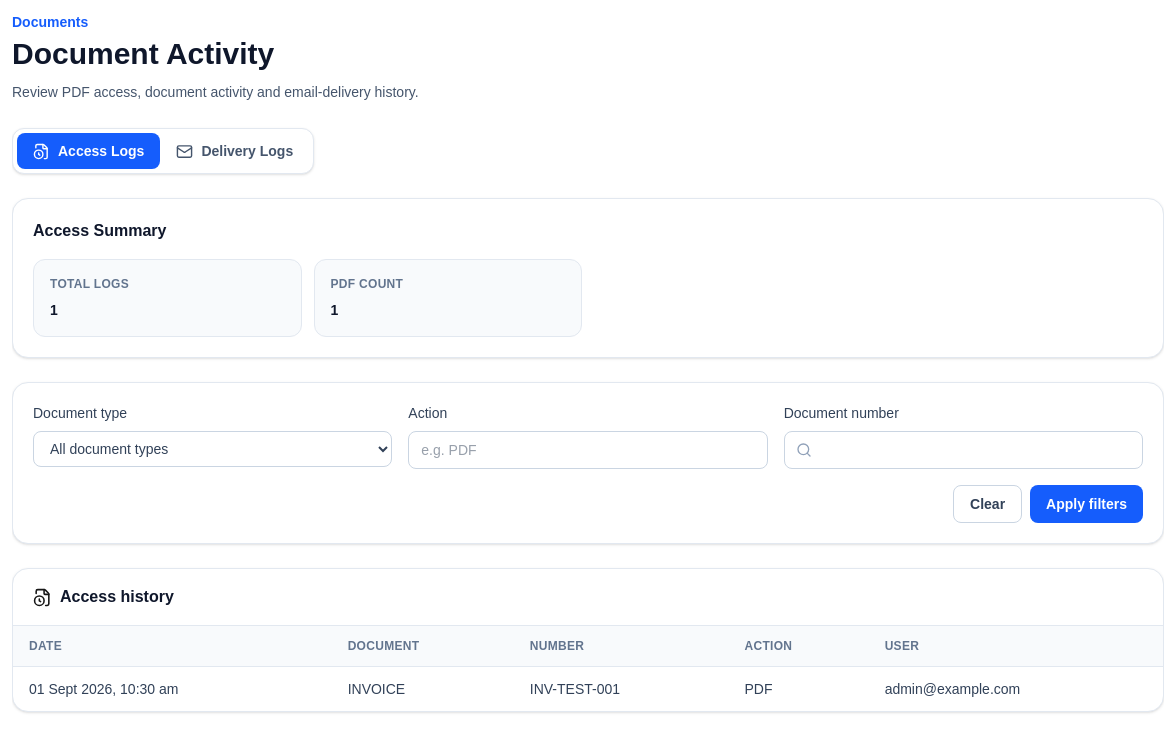
Scenario: DocumentLogsPage › clears access log filters
Select "Vendor bill" in the dropdown at (213, 449), box left=33, top=431, right=392, bottom=467
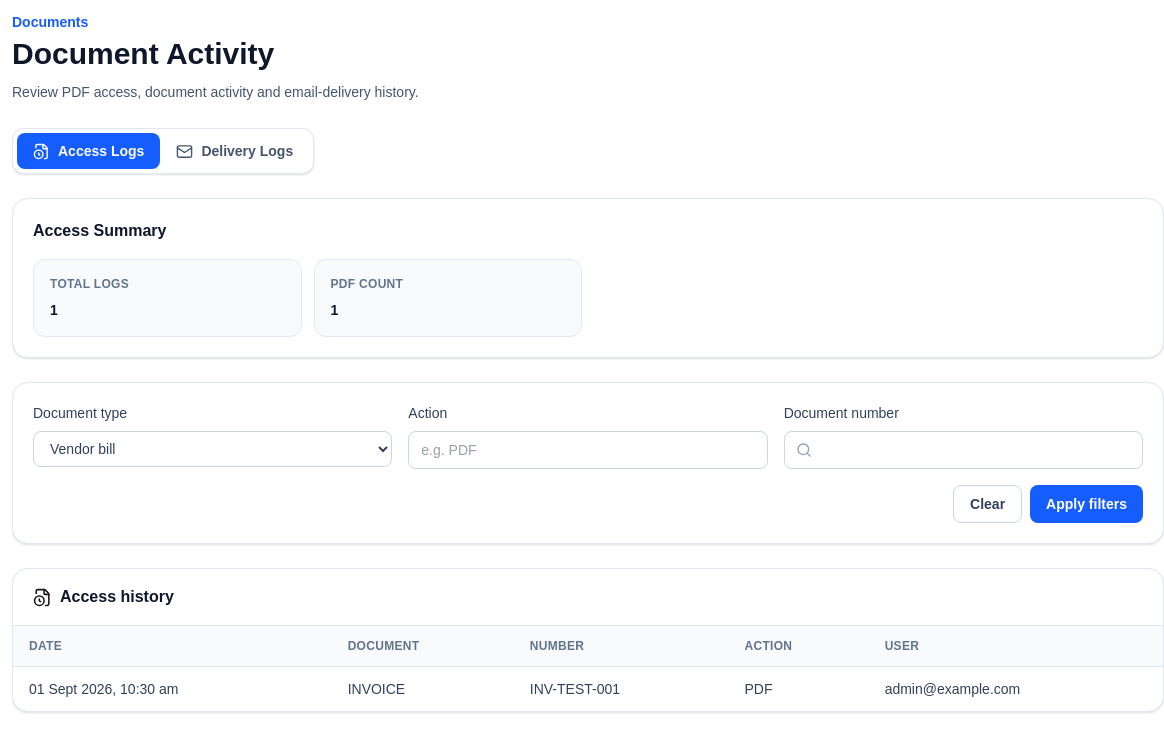
Type "PDF" into the field with placeholder "e.g. PDF" at (588, 450), box left=408, top=431, right=768, bottom=469
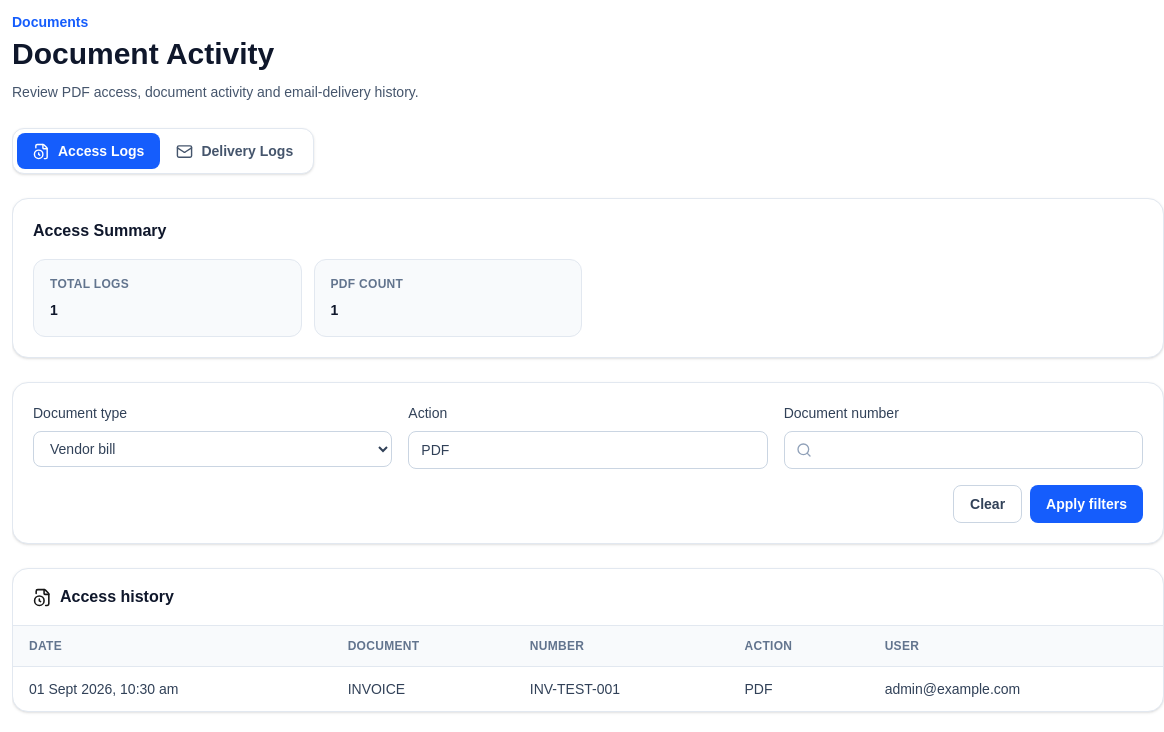
Click the button "Clear" at (988, 504), box left=953, top=485, right=1022, bottom=523
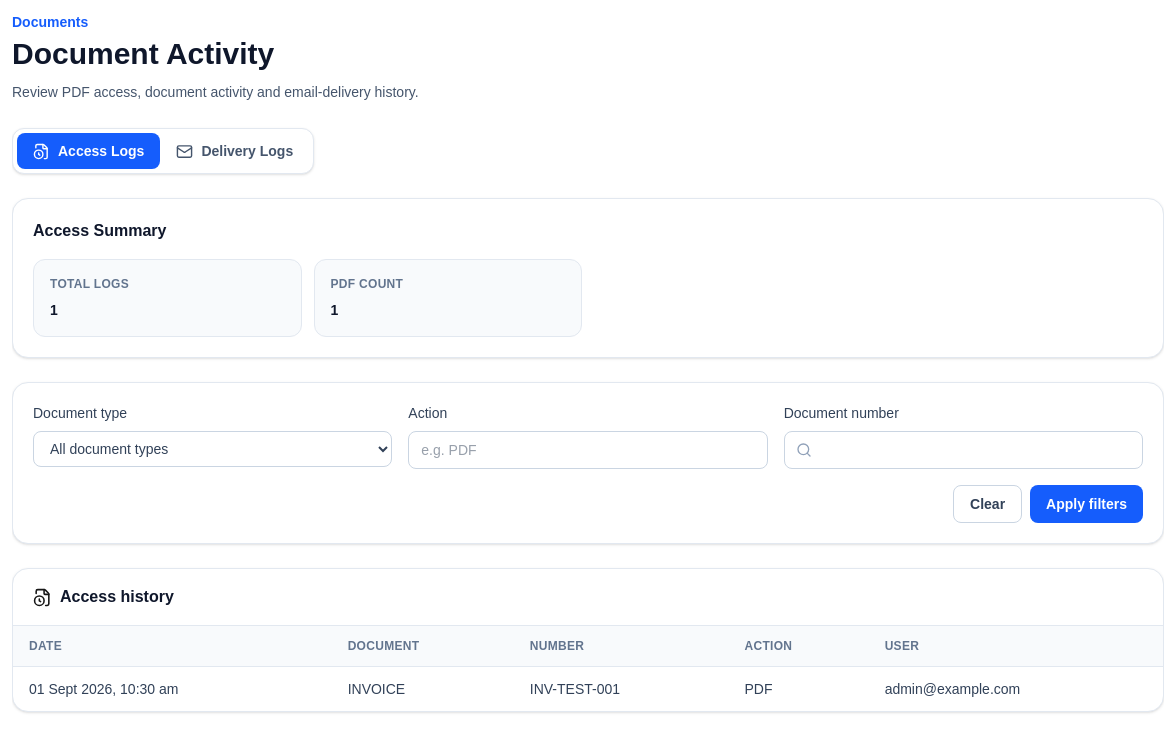
Now the field with placeholder "e.g. PDF" is empty, box left=408, top=431, right=768, bottom=469
